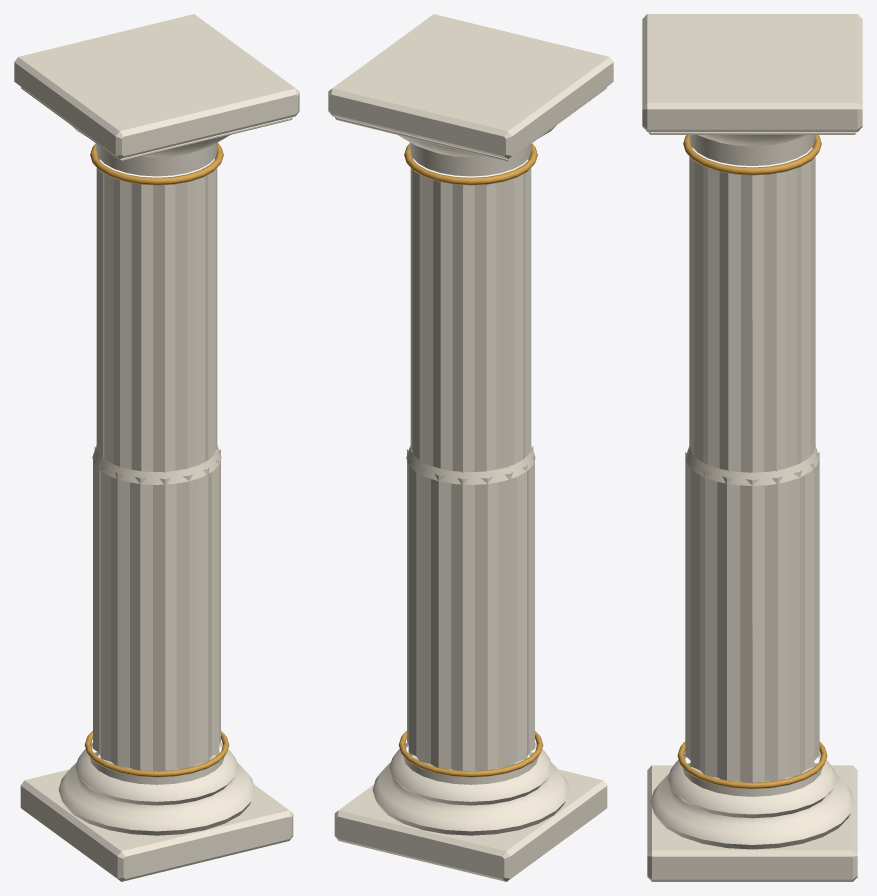
File: column.glb
3 views of the same model, side by side, from view 1: azimuth 30°, elevation 25°; view 2: azimuth 150°, elevation 25°; view 3: azimuth 270°, elevation 25° (orthographic). The views are drawn at different scales.
Parts seen in each view (by area): view 1: Column; view 2: Column; view 3: Column.
Part boxes in pixels (x1,y1,x2,y2): Column: (14, 14, 299, 881); Column: (328, 14, 613, 881); Column: (642, 14, 862, 881).
Bounding box in the file's own units: 1.38 × 5.4 × 1.38.
